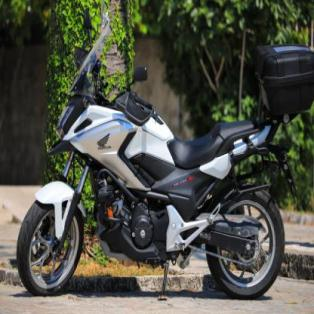Motocicleta: (15, 30, 313, 300)
